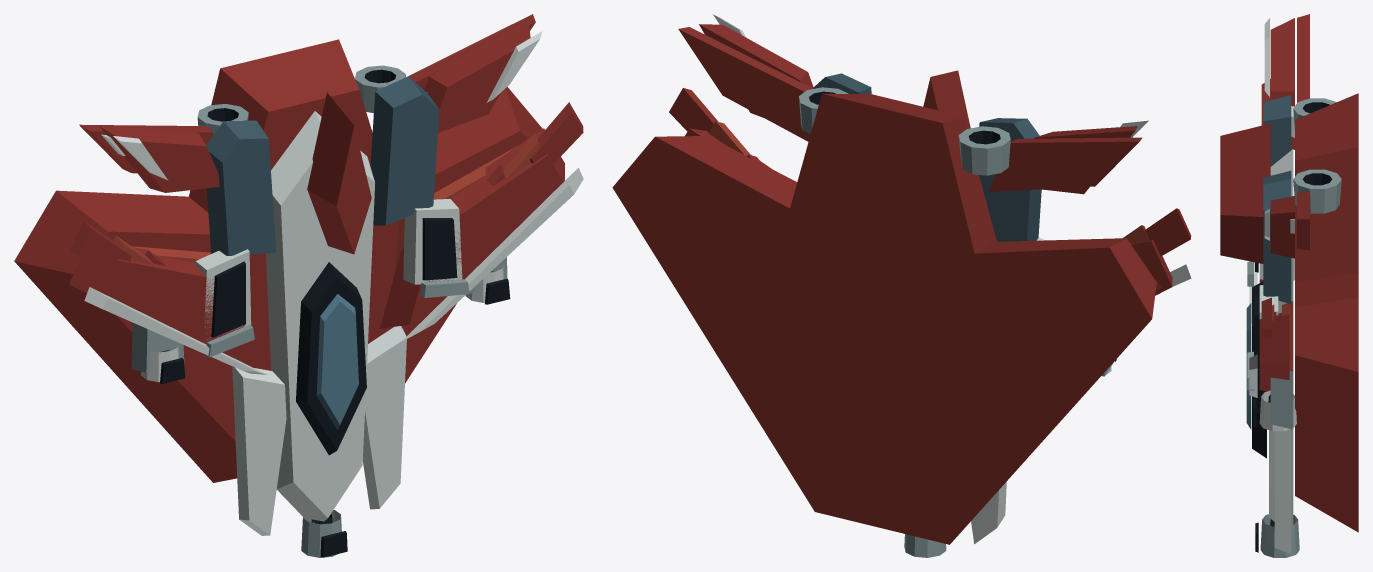
3 renders of one model, left to right at view 1: azimuth 30°, elevation 25°; view 2: azimuth 150°, elevation 25°; view 3: azimuth 270°, elevation 25°, orthographic. The views are drawn at different scales.
Parts seen in each view (by area): view 1: Model, Elevator_1, Elevator_-1; view 2: Model, Elevator_1, Elevator_-1; view 3: Model, Elevator_-1, Elevator_1.
Boxes of the visible parts, x1,y1,x2,y2 form: Model: [14, 14, 583, 557]; Elevator_1: [424, 21, 542, 132]; Elevator_-1: [99, 126, 219, 192]; Model: [612, 27, 1191, 557]; Elevator_1: [699, 14, 813, 117]; Elevator_-1: [1034, 120, 1148, 194]; Model: [1220, 14, 1358, 557]; Elevator_-1: [1264, 18, 1294, 149]; Elevator_1: [1264, 196, 1294, 258].
Bounding box in the file's own units: 3.04 × 2.57 × 0.74.
